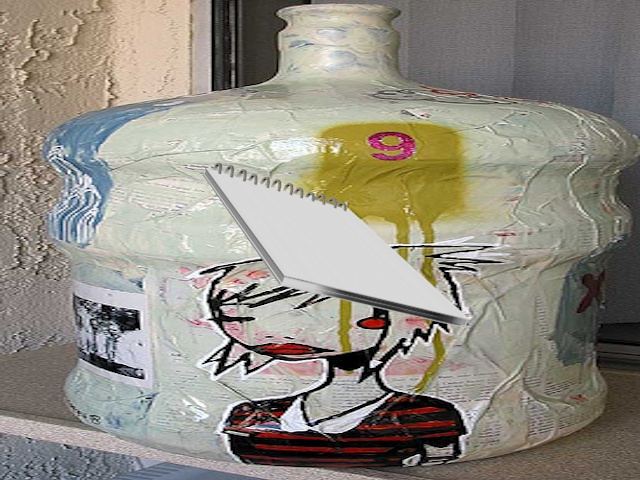paper_notebook: (201, 161, 472, 336)
